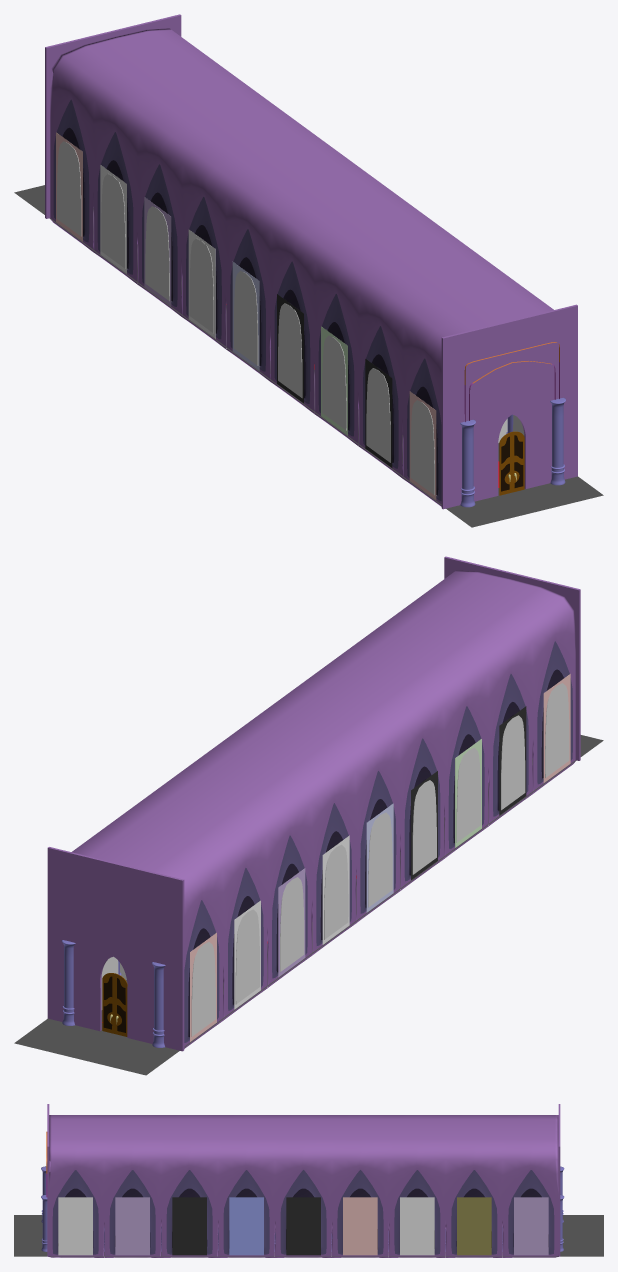
File: Pasillo.fbx
3 views of the same model, one above another, from view 1: azimuth 30°, elevation 25°; view 2: azimuth 150°, elevation 25°; view 3: azimuth 270°, elevation 25° (orthographic). The views are drawn at different scales.
Visible parts, largest first — view 1: Window, Doorway, volumetric_light_left_array, Floor, Column, Stianed Glass array.004, Stianed Glass array.014, Stianed Glass array.002, Stianed Glass array.012, Stianed Glass array.010; view 2: Window, Doorway, volumetric_light_left_array, Floor, Column, Stianed Glass array.010, Stianed Glass array.012, Stianed Glass array.002, Stianed Glass array.004, Stianed Glass array.014; view 3: Window, Floor, Stianed Glass array.003, Stianed Glass array.005, Stianed Glass array.007, Stianed Glass array.009, Stianed Glass array.011, Stianed Glass array.013, Stianed Glass array.015, Stianed Glass array.016, Stianed Glass array.018, Column (+1 smaller).
Part boxes in pixels (x1=…): Window: x1=50, y1=28, x2=553, y2=506; Doorway: x1=45, y1=14, x2=577, y2=509; volumetric_light_left_array: x1=57, y1=141, x2=436, y2=495; Floor: x1=14, y1=185, x2=603, y2=527; Column: x1=460, y1=397, x2=565, y2=507; Stianed Glass array.004: x1=365, y1=359, x2=392, y2=467; Stianed Glass array.014: x1=144, y1=197, x2=171, y2=305; Stianed Glass array.002: x1=409, y1=391, x2=436, y2=499; Stianed Glass array.012: x1=188, y1=229, x2=215, y2=338; Stianed Glass array.010: x1=232, y1=261, x2=259, y2=370; Window: x1=71, y1=570, x2=575, y2=1048; Doorway: x1=47, y1=556, x2=580, y2=1051; volumetric_light_left_array: x1=191, y1=683, x2=569, y2=1036; Floor: x1=14, y1=735, x2=603, y2=1075; Column: x1=61, y1=940, x2=165, y2=1047; Stianed Glass array.010: x1=366, y1=803, x2=393, y2=912; Stianed Glass array.012: x1=322, y1=835, x2=349, y2=944; Stianed Glass array.002: x1=543, y1=674, x2=570, y2=782; Stianed Glass array.004: x1=499, y1=706, x2=526, y2=815; Stianed Glass array.014: x1=278, y1=868, x2=305, y2=977; Window: x1=48, y1=1115, x2=558, y2=1257; Floor: x1=14, y1=1215, x2=603, y2=1256; Stianed Glass array.003: x1=58, y1=1197, x2=92, y2=1255; Stianed Glass array.005: x1=115, y1=1197, x2=149, y2=1255; Stianed Glass array.007: x1=172, y1=1197, x2=206, y2=1255; Stianed Glass array.009: x1=229, y1=1197, x2=263, y2=1255; Stianed Glass array.011: x1=286, y1=1197, x2=320, y2=1255; Stianed Glass array.013: x1=343, y1=1197, x2=377, y2=1255; Stianed Glass array.015: x1=400, y1=1197, x2=434, y2=1255; Stianed Glass array.016: x1=457, y1=1197, x2=491, y2=1255; Stianed Glass array.018: x1=514, y1=1197, x2=548, y2=1255; Column: x1=41, y1=1166, x2=564, y2=1251.
Size of the model in its own units: 24.15 by 29.44 by 141.
